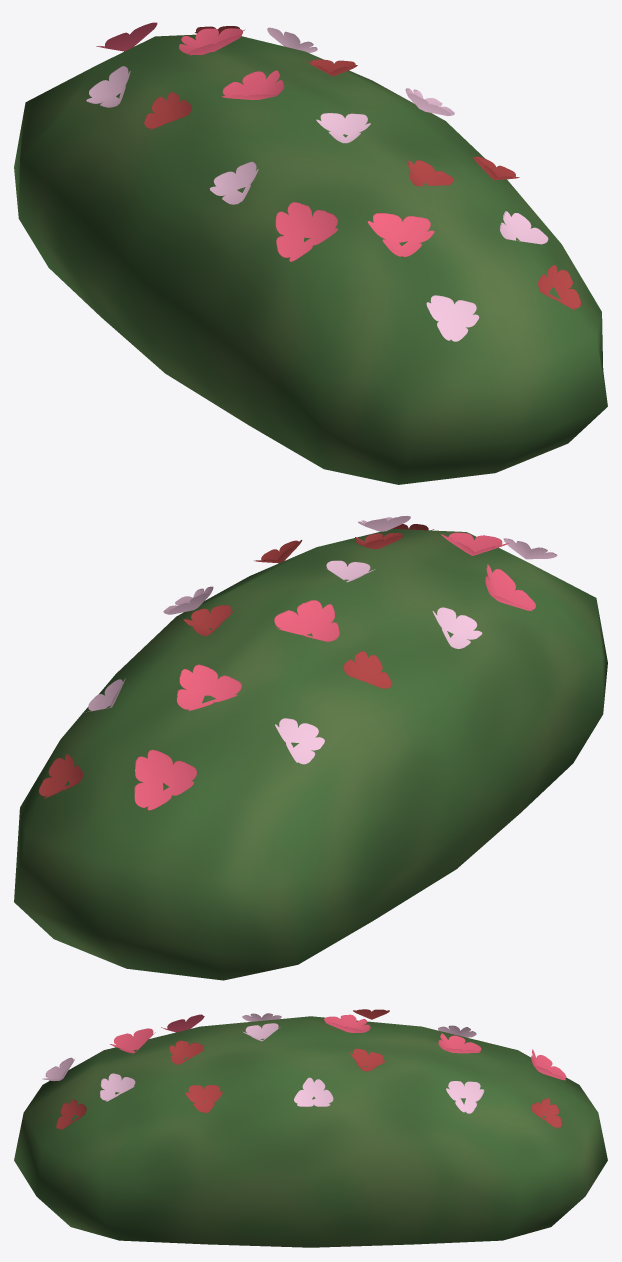
File: Arbusto_Flores_2.fbx
3 renders of one model, top to bottom at view 1: azimuth 30°, elevation 25°; view 2: azimuth 150°, elevation 25°; view 3: azimuth 270°, elevation 25°, orthographic. The views are drawn at different scales.
Parts seen in each view (by area): view 1: Arbusto_Flores_2; view 2: Arbusto_Flores_2; view 3: Arbusto_Flores_2.
Boxes of the visible parts, <box> form: Arbusto_Flores_2: <box>14,22,607,484</box>; Arbusto_Flores_2: <box>14,516,607,980</box>; Arbusto_Flores_2: <box>14,1009,607,1247</box>.
Size of the model in its own units: 61.92 by 43.71 by 136.
1 material, 1 textured.
